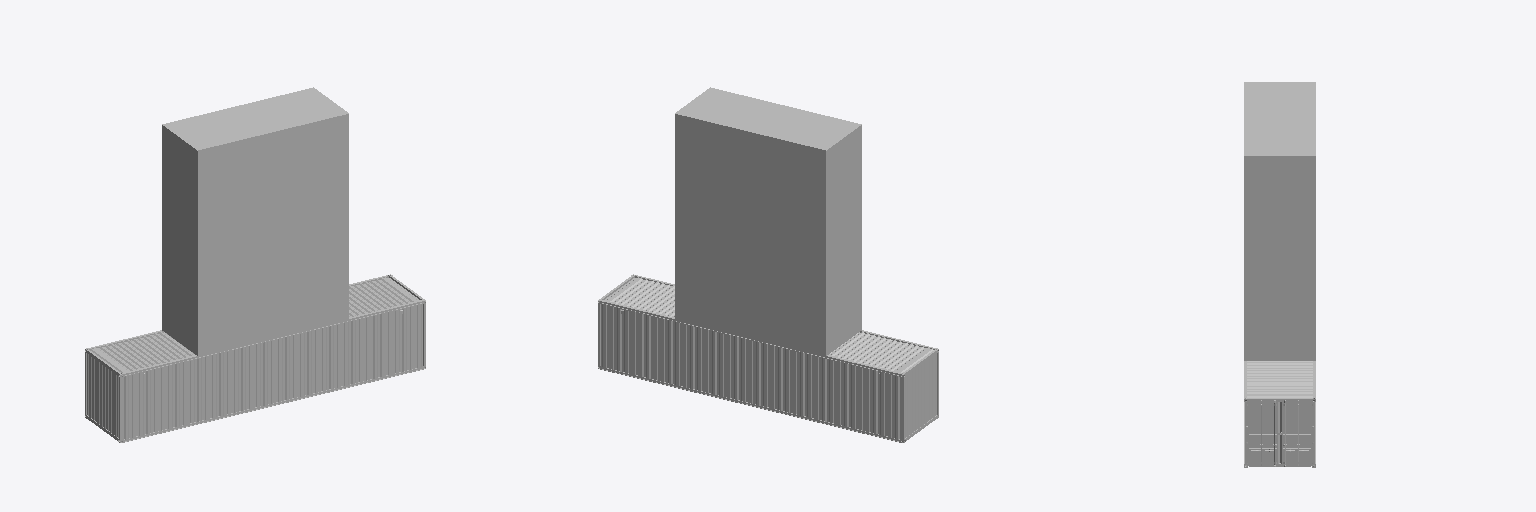
3 renders of one model, left to right at view 1: azimuth 30°, elevation 25°; view 2: azimuth 150°, elevation 25°; view 3: azimuth 270°, elevation 25°, orthographic.
Parts seen in each view (by area): view 1: SHELL, CARGO_ITEMS_3_IRSIZE, CARGO_ITEMS_1_IRSIZE, CARGO_ITEMS_2_IRSIZE, FRAME; view 2: SHELL, CARGO_ITEMS_3_IRSIZE, CARGO_ITEMS_1_IRSIZE, CARGO_ITEMS_2_IRSIZE, FRAME; view 3: CARGO_ITEMS_3_IRSIZE, FRAME, CARGO_ITEMS_2_IRSIZE, CARGO_ITEMS_1_IRSIZE, SHELL.
Boxes of the visible parts, x1=… form: SHELL: x1=87, y1=277, x2=422, y2=439; CARGO_ITEMS_3_IRSIZE: x1=162, y1=87, x2=348, y2=218; CARGO_ITEMS_1_IRSIZE: x1=162, y1=251, x2=348, y2=355; CARGO_ITEMS_2_IRSIZE: x1=162, y1=182, x2=348, y2=287; FRAME: x1=85, y1=274, x2=425, y2=442; SHELL: x1=601, y1=277, x2=936, y2=439; CARGO_ITEMS_3_IRSIZE: x1=675, y1=87, x2=861, y2=218; CARGO_ITEMS_1_IRSIZE: x1=675, y1=251, x2=861, y2=355; CARGO_ITEMS_2_IRSIZE: x1=675, y1=182, x2=861, y2=287; FRAME: x1=598, y1=274, x2=938, y2=442; CARGO_ITEMS_3_IRSIZE: x1=1244, y1=82, x2=1315, y2=223; FRAME: x1=1244, y1=361, x2=1315, y2=467; CARGO_ITEMS_2_IRSIZE: x1=1244, y1=224, x2=1315, y2=292; CARGO_ITEMS_1_IRSIZE: x1=1244, y1=293, x2=1315, y2=360; SHELL: x1=1247, y1=361, x2=1312, y2=397.
Size of the model in its own units: 12.13 by 10.37 by 2.45.